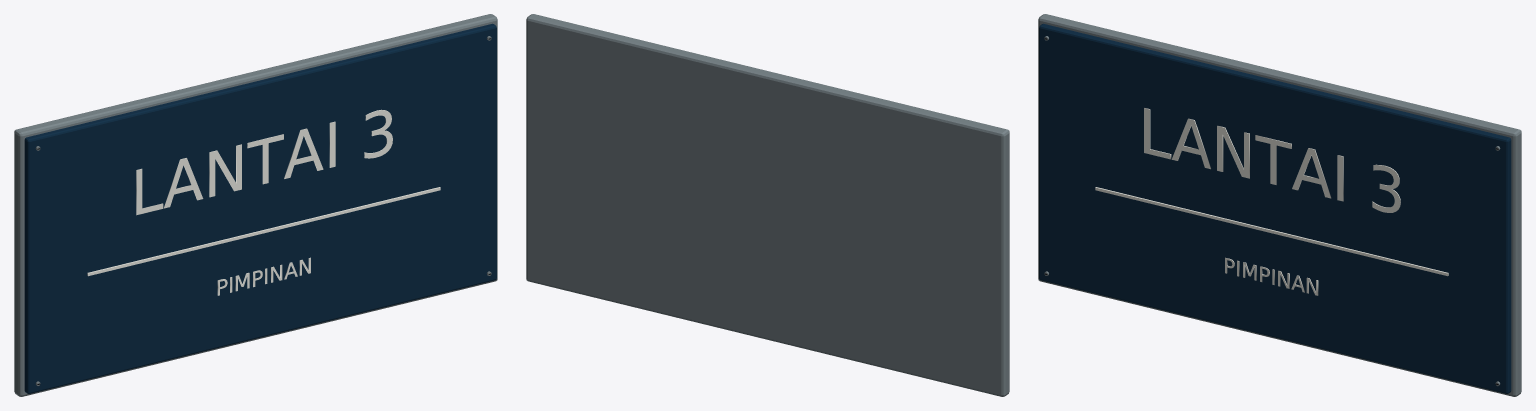
Rendered from OAA_Papan_Lantai_03.fbx.
3 views of the same model, side by side, from view 1: azimuth 30°, elevation 25°; view 2: azimuth 150°, elevation 25°; view 3: azimuth 330°, elevation 25° (orthographic).
Parts seen in each view (by area): view 1: Body; view 2: Body; view 3: Body.
Part boxes in pixels (x1,y1,x2,y2): Body: (14,14,497,396); Body: (526,14,1009,396); Body: (1038,14,1521,396).
Bounding box in the file's own units: 0.72 × 0.38 × 0.0315.
